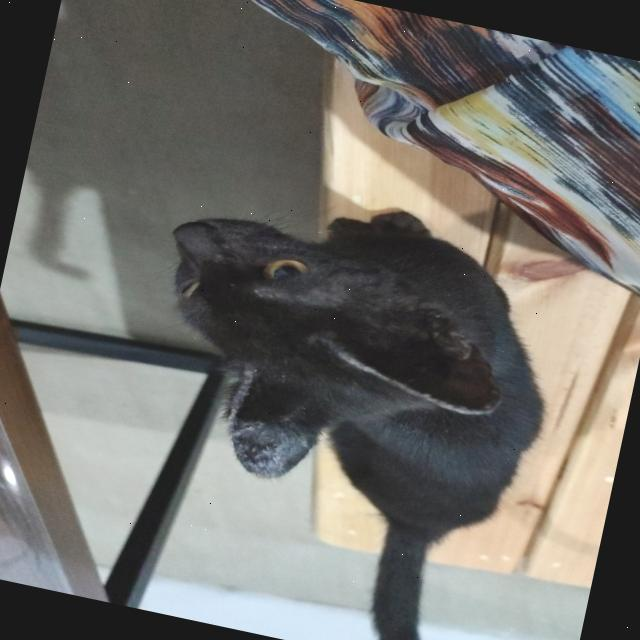cat-scabies: (294, 278, 542, 429), (199, 376, 337, 498)
